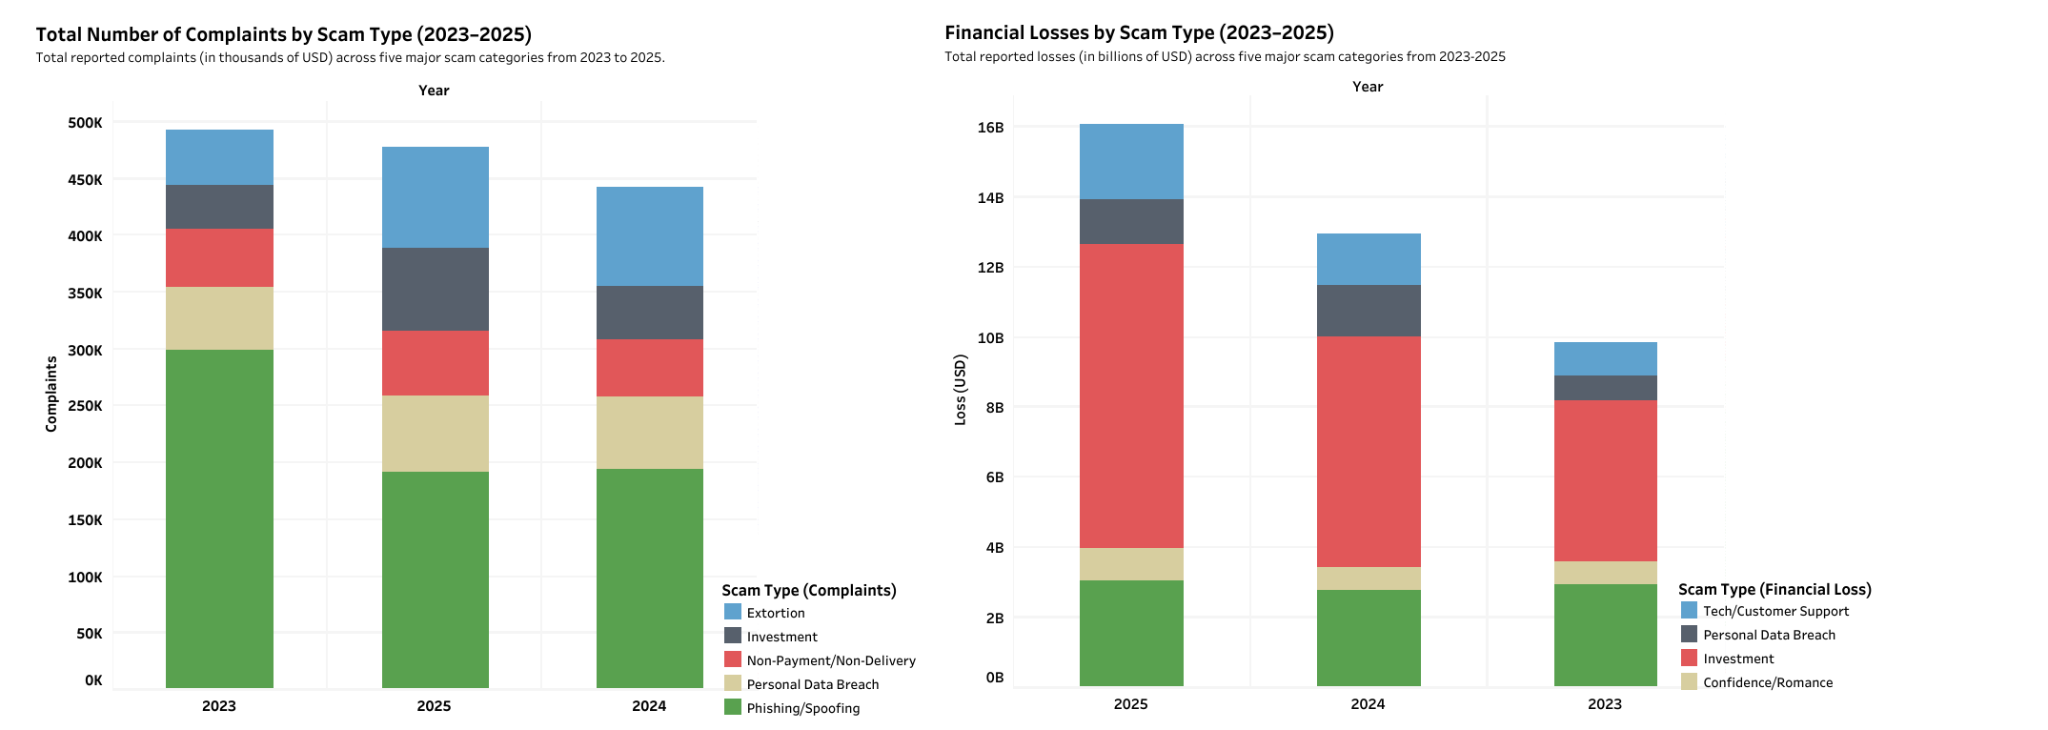

Layout of this report page (visuals, bound fields, positions):
{"tool":"tableau","page":{"name":"Stacked Bars","canvas":[1000,1000],"units":"permille","ordinal":1},"visuals":[{"type":"worksheet","title":"Sheet 3","mark":"Bar","rows":["Year"],"cols":["Calculation_647955464874381312","Calculation_647955464874381312"],"box":[4.7,10.2,393,979.5]},{"type":"filter","title":"Sheet 3","param":"[federated.0likbsx1m804bm0zk0drv1kcq0v6].[none:Crime Type:nk]","box":[397.7,10.2,597.7,78.1]},{"type":"parameter","param":"[Parameters].[Parameter 1]","box":[397.7,88.3,597.7,71.7]}]}

Visuals, with their boxes on the dashboard's canvas, which has no fixed pixel size, in thousandths of its width and height (x1, y1, x2, y2). These are canvas units, not pixel positions in the 2048x730 screenshot, which may show the page scaled, cropped or inside an application window:
"Sheet 3" worksheet (Bar marks): (left=5, top=10, right=398, bottom=990)
"Sheet 3" filter: (left=398, top=10, right=995, bottom=88)
parameter: (left=398, top=88, right=995, bottom=160)
